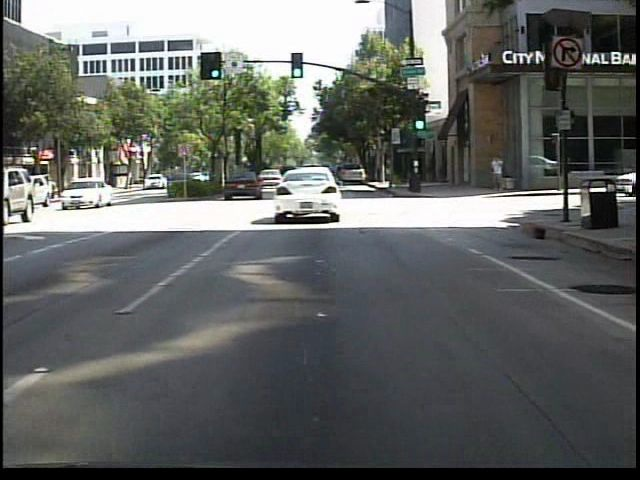person: (487, 153, 506, 195)
